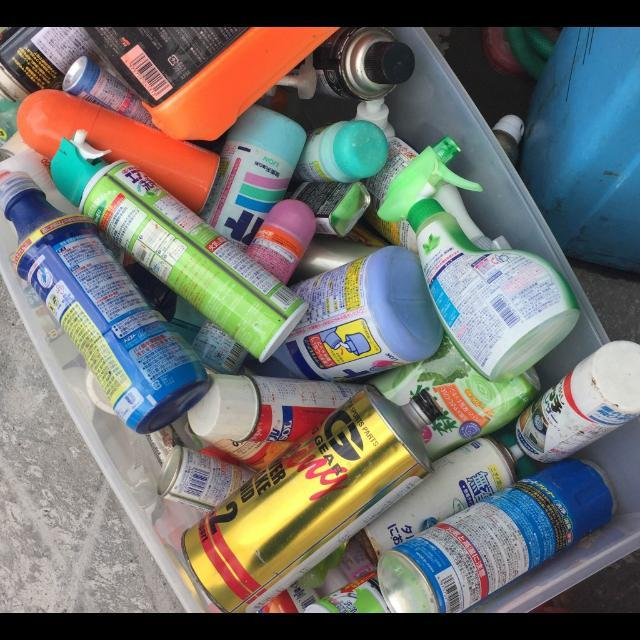chemical_spray_can: (50, 131, 308, 361)
